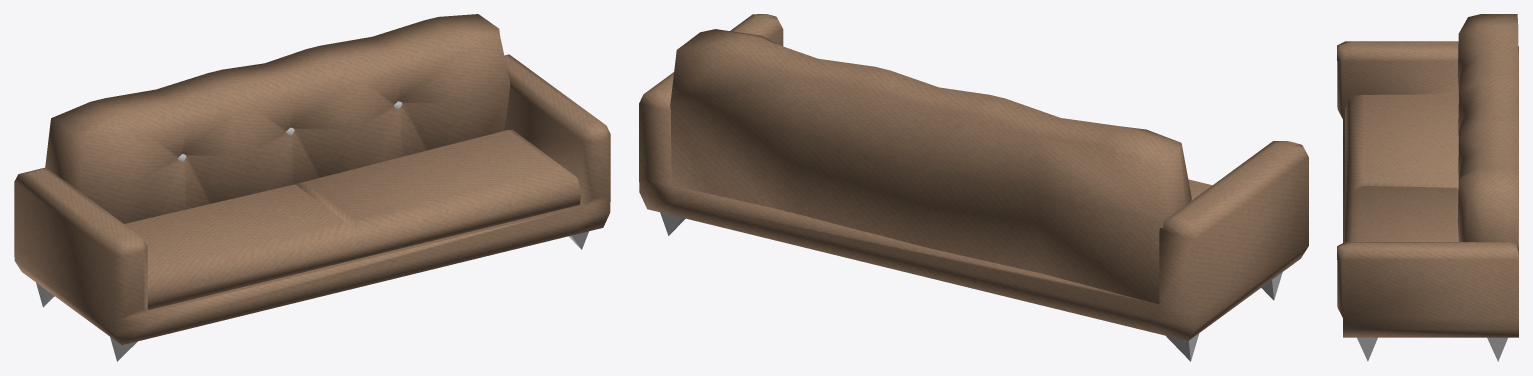
The model's file is Sofa_I_2.FBX.
The picture shows the model from 3 angles, left to right: view 1: azimuth 30°, elevation 25°; view 2: azimuth 150°, elevation 25°; view 3: azimuth 270°, elevation 25°; orthographic projection. The views are drawn at different scales.
Parts seen in each view (by area): view 1: Sofa; view 2: Sofa; view 3: Sofa.
Part boxes in pixels (<box>): Sofa: <box>14,14,610,361</box>; Sofa: <box>639,14,1308,361</box>; Sofa: <box>1337,14,1518,361</box>.
Size of the model in its own units: 468 by 168 by 169.
